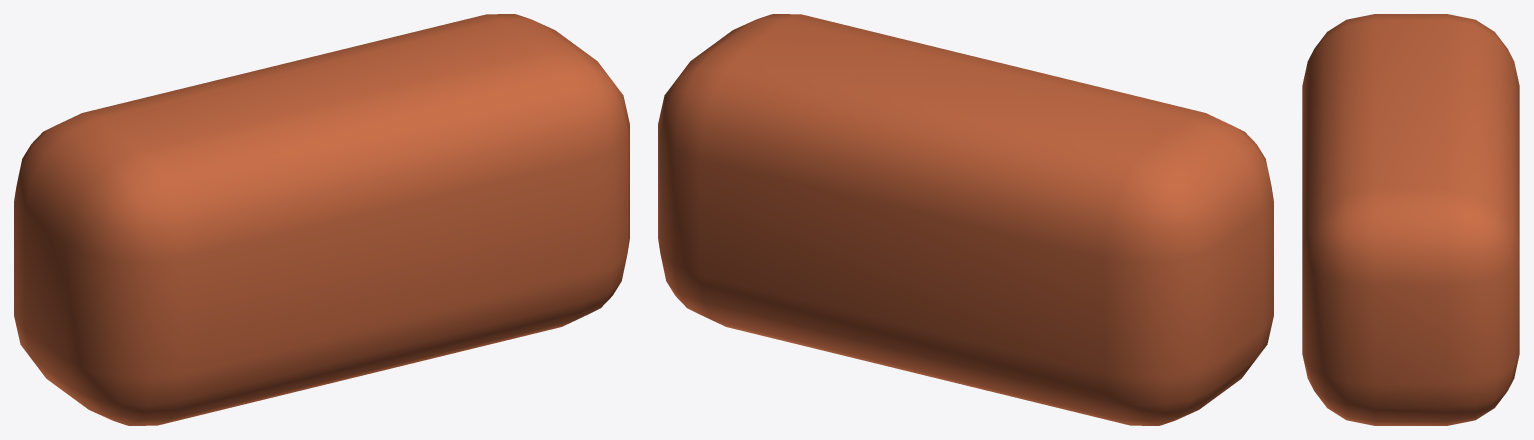
Rendered from circular_saw_trigger.glb.
3 views of the same model, side by side, from view 1: azimuth 30°, elevation 25°; view 2: azimuth 150°, elevation 25°; view 3: azimuth 270°, elevation 25° (orthographic). The views are drawn at different scales.
Parts seen in each view (by area): view 1: circular_saw_trigger; view 2: circular_saw_trigger; view 3: circular_saw_trigger.
Boxes of the visible parts, <box> form: circular_saw_trigger: <box>14,14,629,425</box>; circular_saw_trigger: <box>658,14,1273,425</box>; circular_saw_trigger: <box>1302,14,1519,425</box>.
Size of the model in its own units: 0.03 by 0.014 by 0.012.
